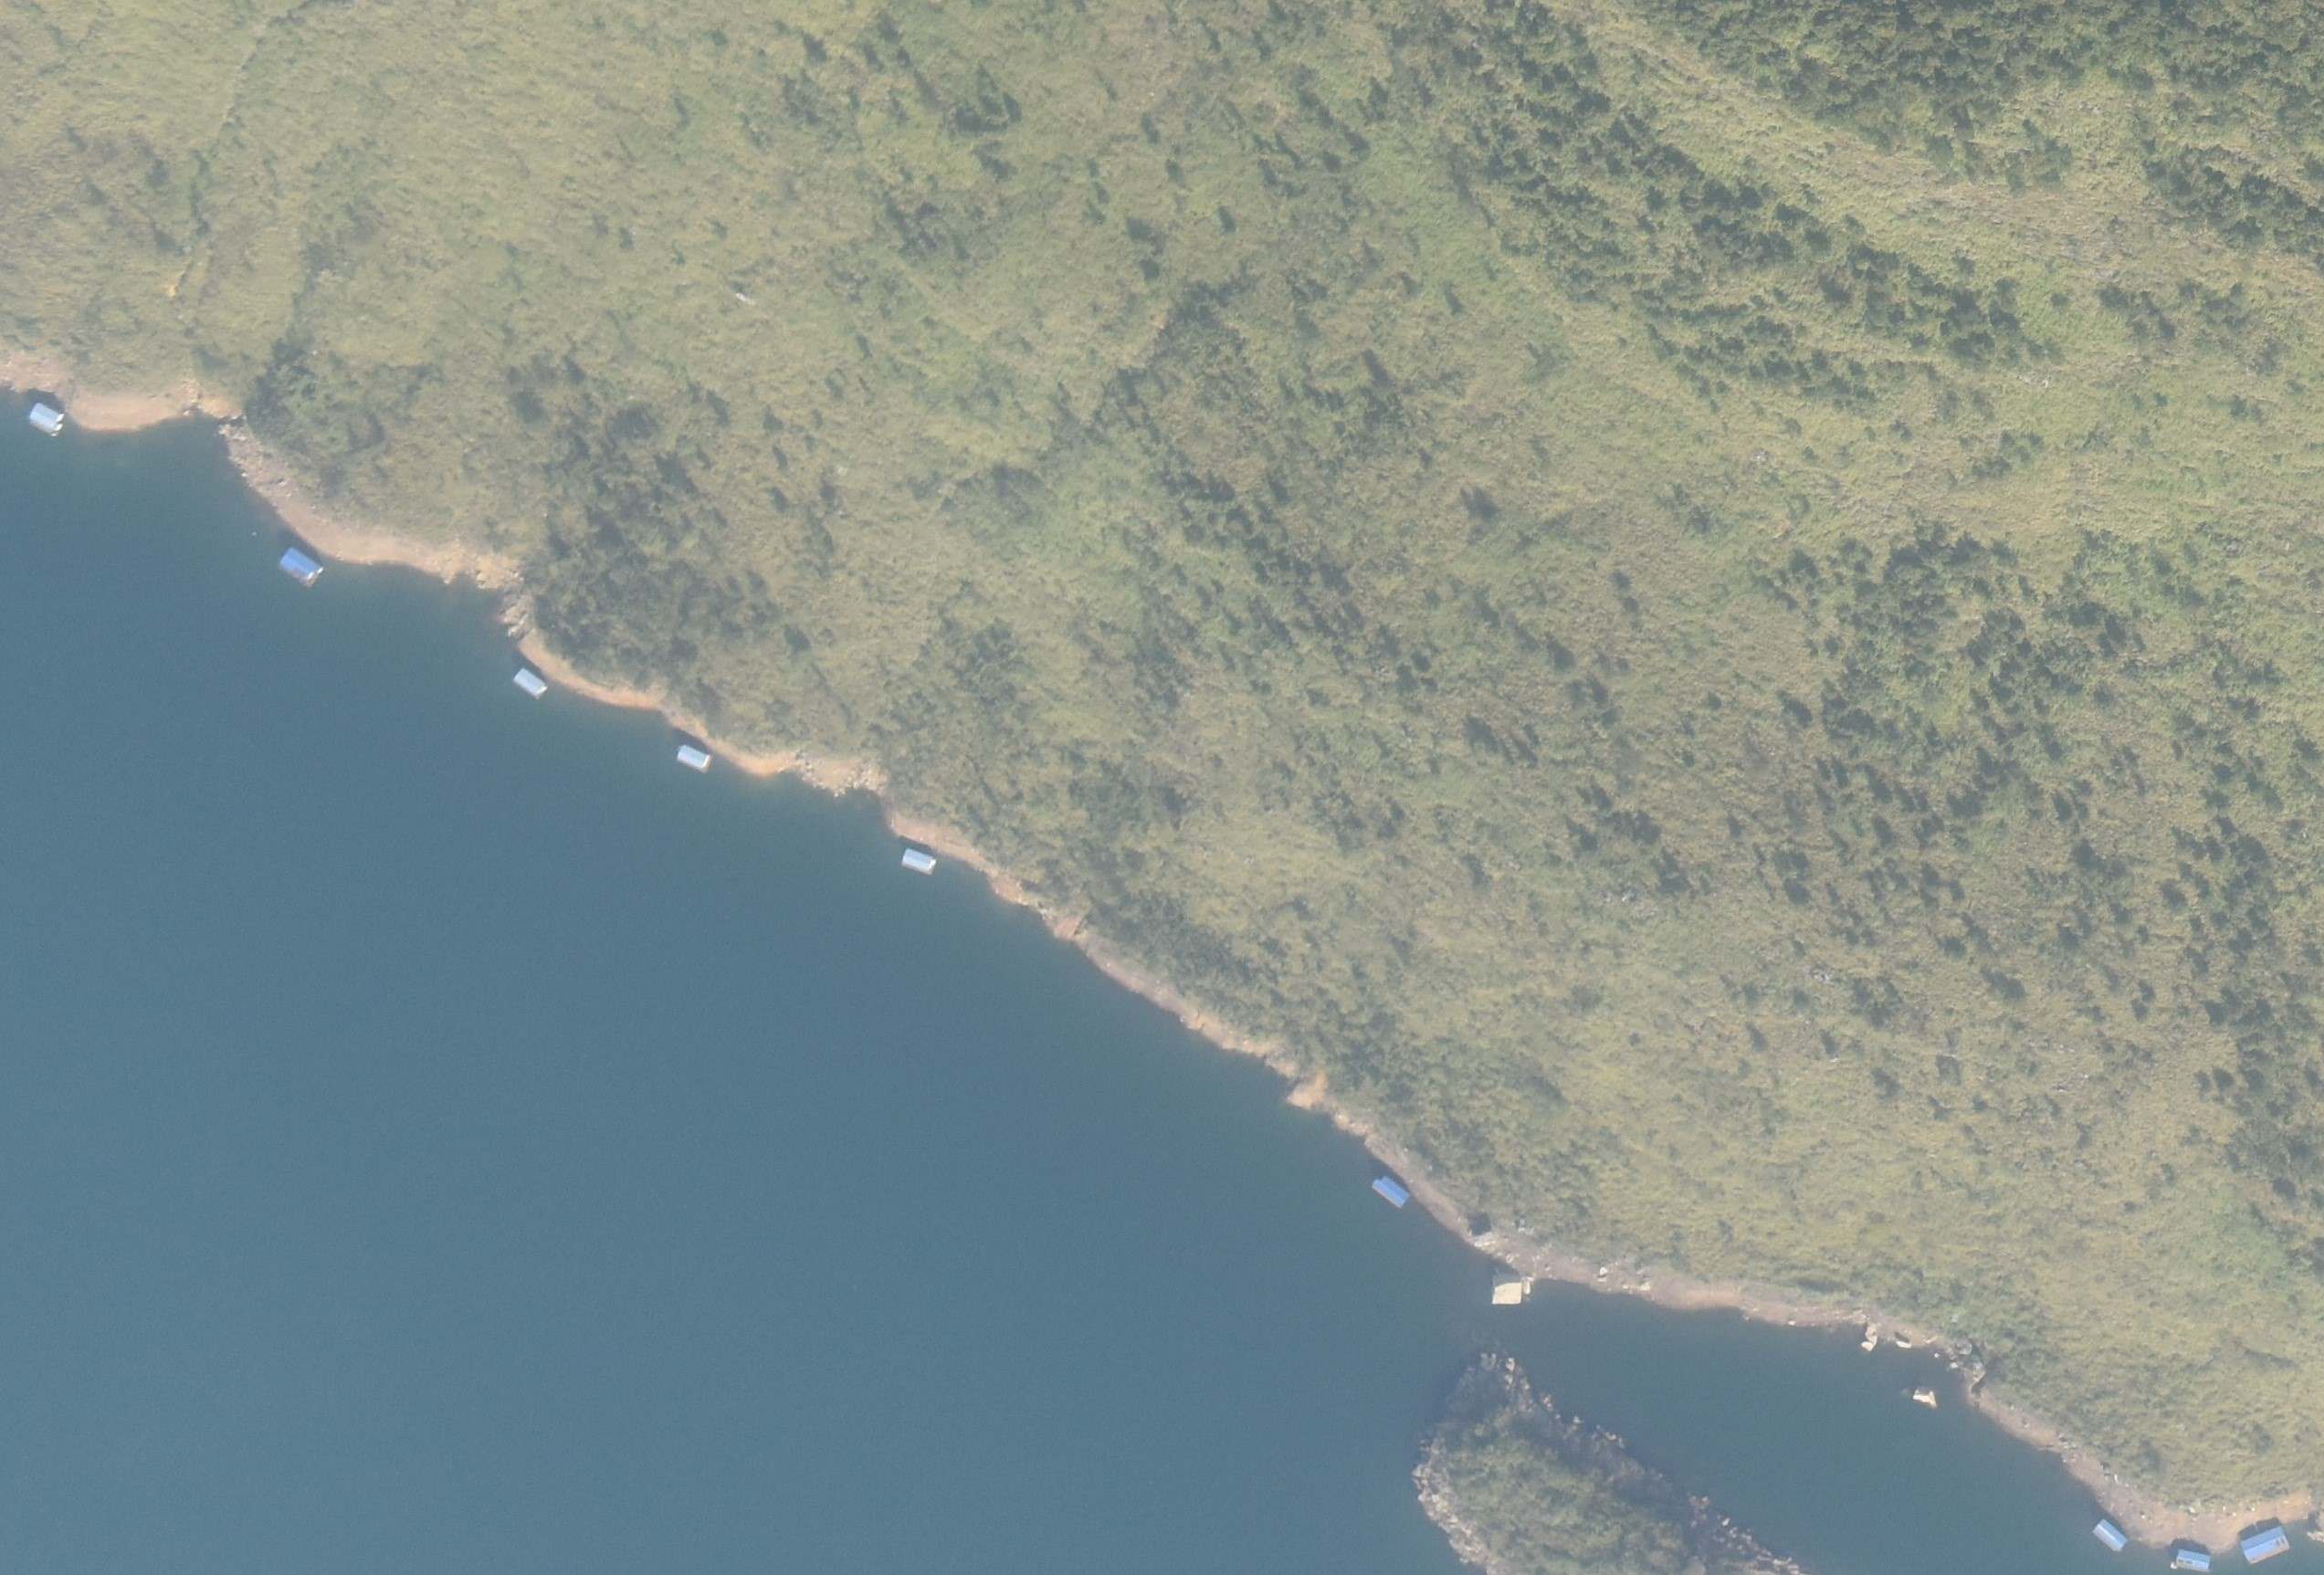prefabricated-house: (276, 545, 327, 585), (2240, 1526, 2289, 1564), (898, 840, 935, 875), (2094, 1517, 2127, 1552), (513, 664, 548, 696), (1373, 1179, 1410, 1209), (28, 401, 67, 429), (677, 740, 710, 772), (2171, 1549, 2211, 1570)
